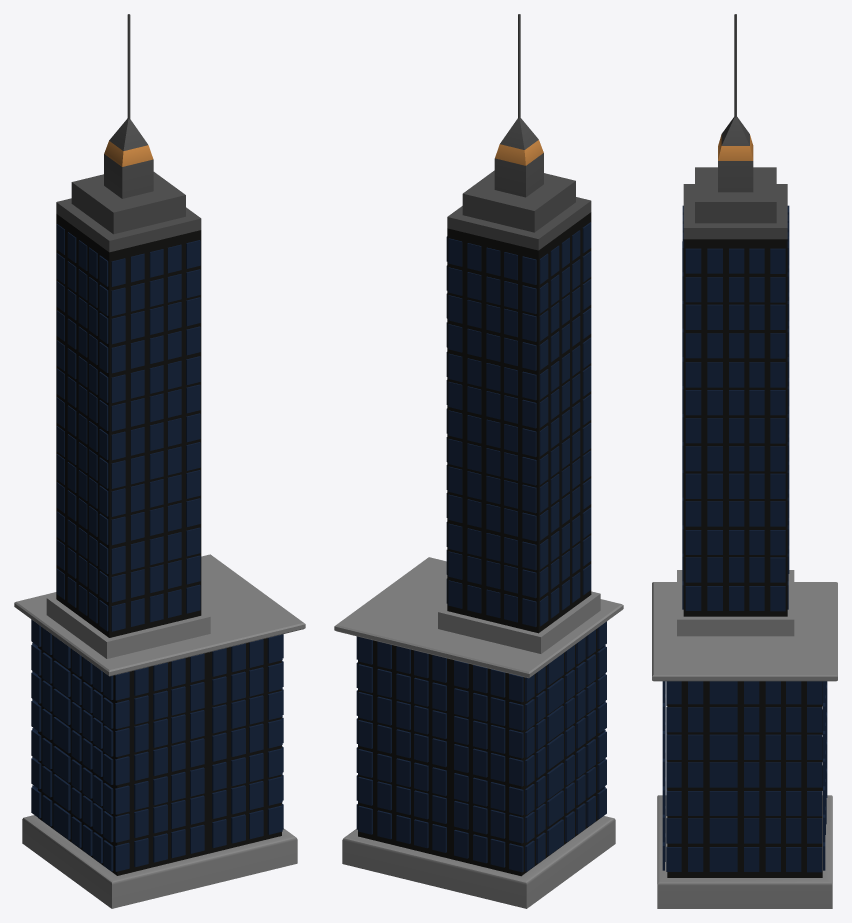
The model's file is Building_Wall_03.fbx.
3 renders of one model, left to right at view 1: azimuth 30°, elevation 25°; view 2: azimuth 150°, elevation 25°; view 3: azimuth 270°, elevation 25°, orthographic. The views are drawn at different scales.
Visible parts, largest first — view 1: Building_Tall2; view 2: Building_Tall2; view 3: Building_Tall2.
Part boxes in pixels (x1,y1,x2,y2): Building_Tall2: [14, 14, 305, 908]; Building_Tall2: [334, 14, 623, 908]; Building_Tall2: [652, 14, 837, 908].
Bounding box in the file's own units: 775 × 3203 × 647.
